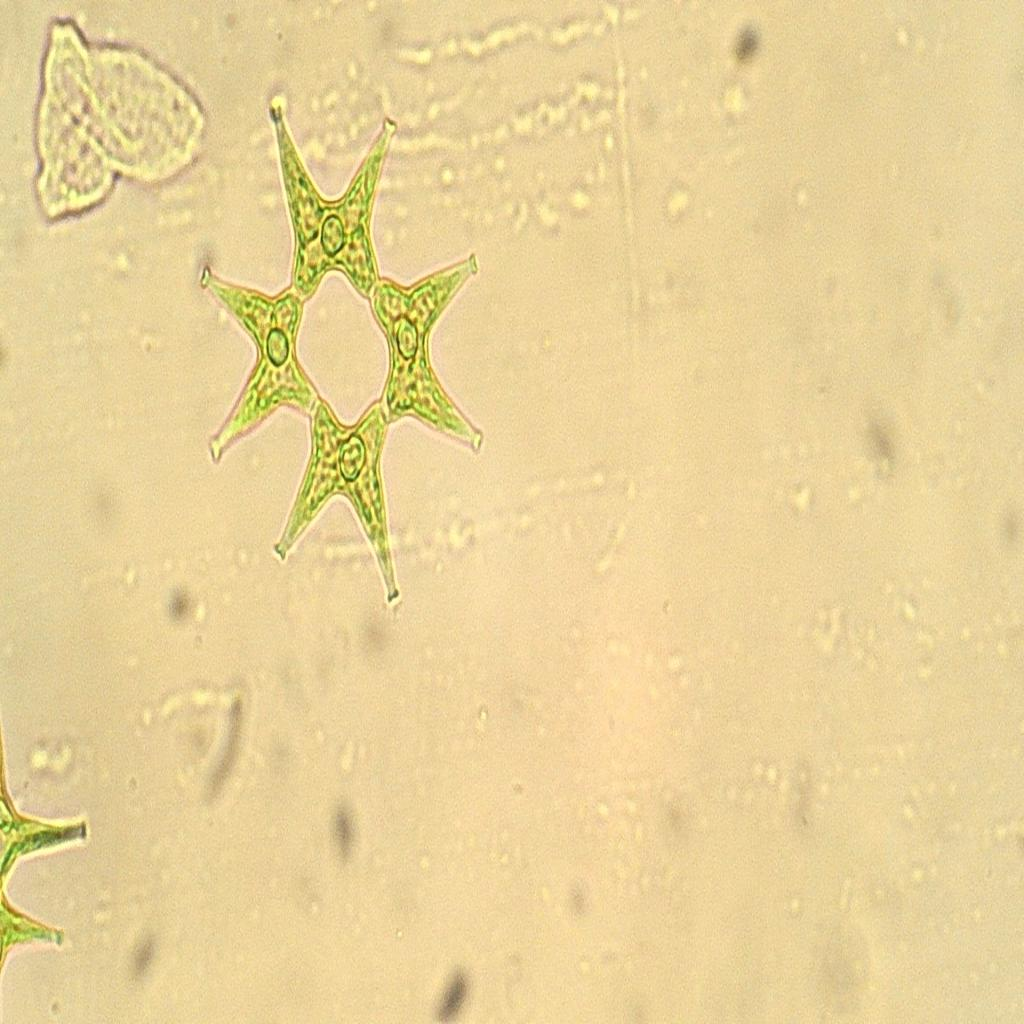Pediastrum_CO: (182, 77, 496, 625)
